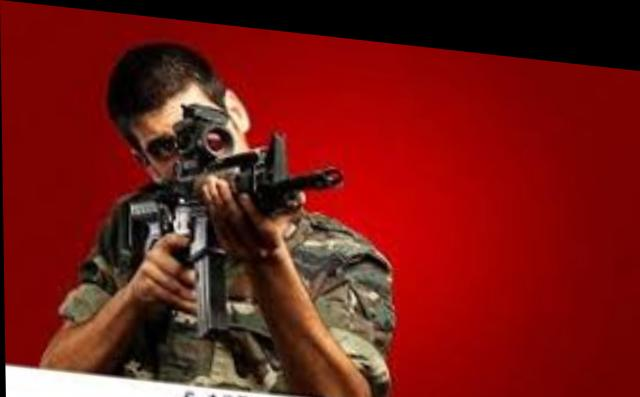other: (36, 25, 395, 394)
